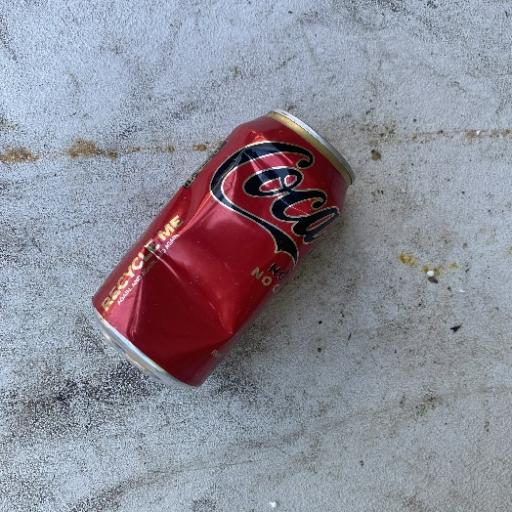Metal: (89, 106, 356, 391)
